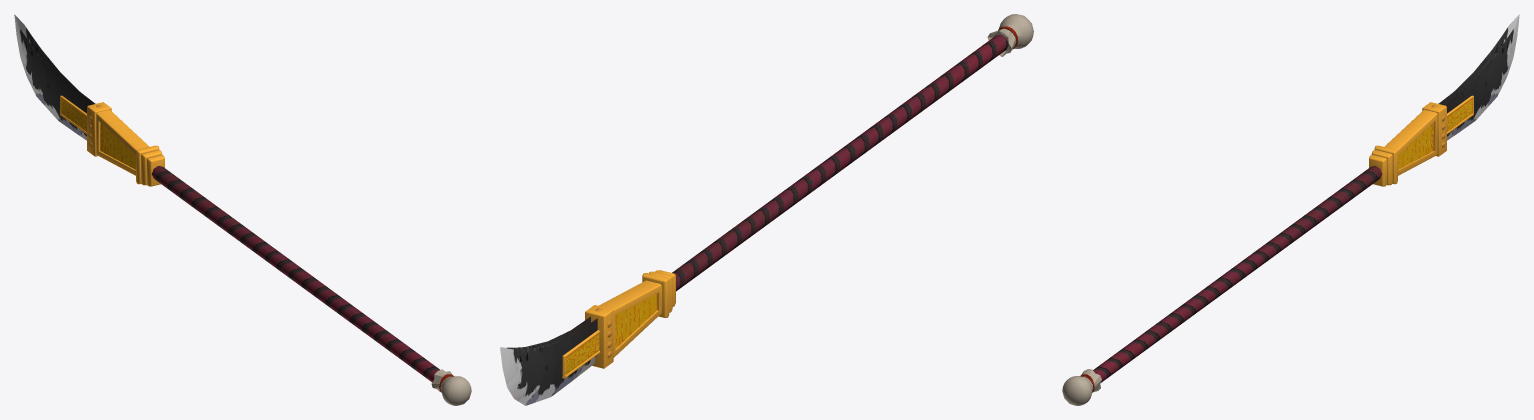
The model's file is Sword_05.fbx.
3 renders of one model, left to right at view 1: azimuth 30°, elevation 25°; view 2: azimuth 150°, elevation 25°; view 3: azimuth 330°, elevation 25°, orthographic. The views are drawn at different scales.
Visible parts, largest first — view 1: Sword_05; view 2: Sword_05; view 3: Sword_05.
Boxes of the visible parts, x1,y1,x2,y2 form: Sword_05: (14,14,471,405); Sword_05: (500,14,1033,405); Sword_05: (1062,14,1519,405).
Bounding box in the file's own units: 18.3 × 51.43 × 541.
